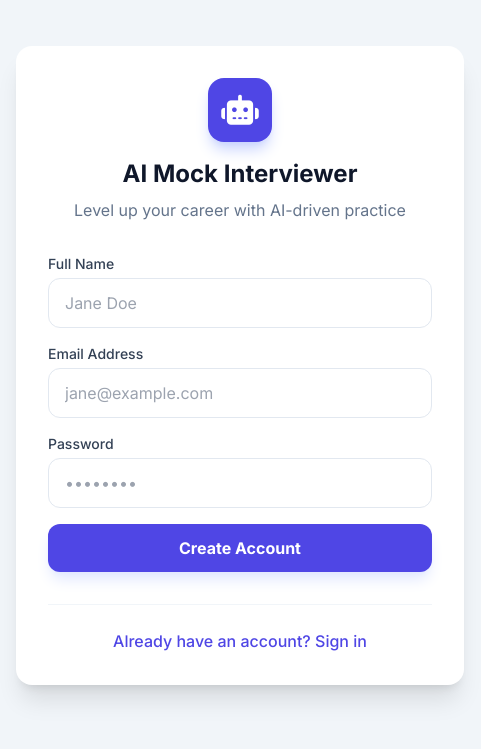
Scenario: AI Mock Interviewer frontend flows › shows validation when signup fields are missing
Click the button "Create Account".
click(240, 548)  # box [48,524,432,572]
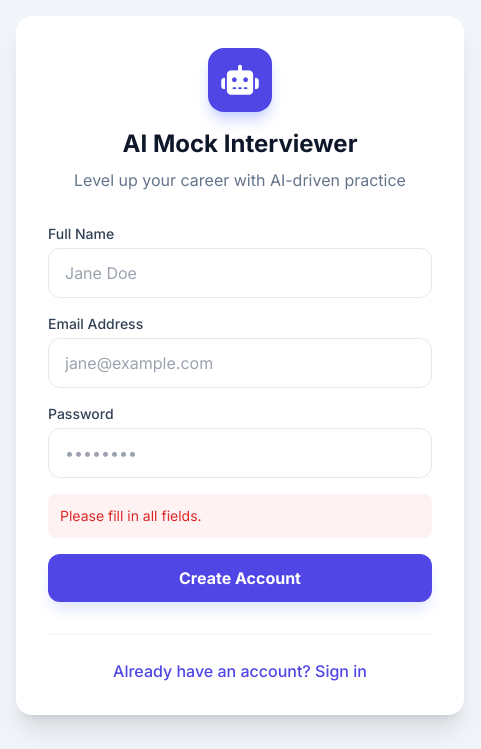
Expected: the text "Please fill in all fields." is shown, [48,494,432,538]
